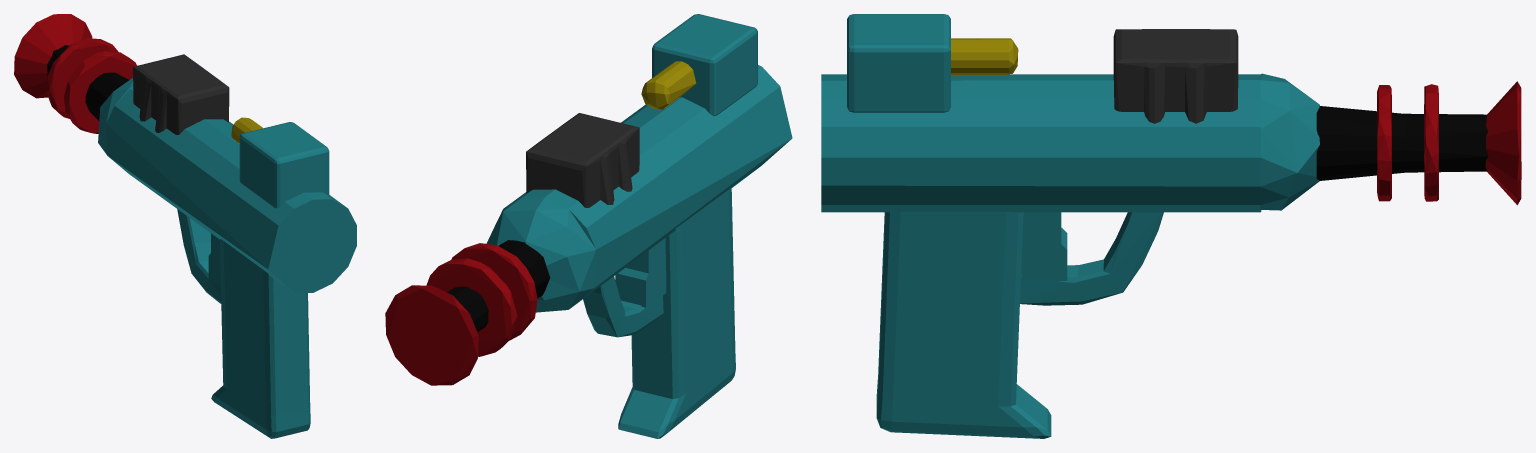
The model's file is LASERgun (1).fbx.
The picture shows the model from 3 angles, left to right: view 1: azimuth 30°, elevation 25°; view 2: azimuth 150°, elevation 25°; view 3: azimuth 270°, elevation 25°; orthographic projection. The views are drawn at different scales.
Parts seen in each view (by area): view 1: Cone; view 2: Cone; view 3: Cone.
Boxes of the visible parts, bbox=[...] form: Cone: bbox=[14, 14, 356, 438]; Cone: bbox=[385, 14, 792, 438]; Cone: bbox=[821, 14, 1521, 438].
Size of the model in its own units: 199 by 637 by 1014.
